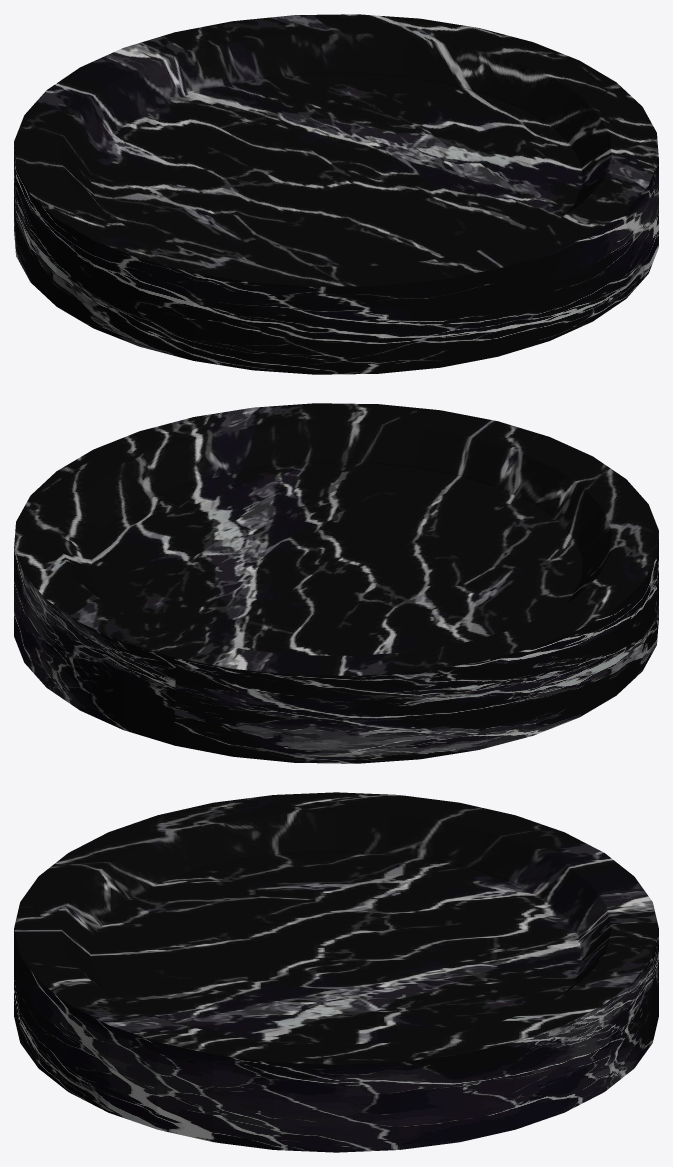
The model's file is pionek_black.gltf.
3 renders of one model, top to bottom at view 1: azimuth 30°, elevation 25°; view 2: azimuth 150°, elevation 25°; view 3: azimuth 270°, elevation 25°, orthographic.
Parts seen in each view (by area): view 1: Cylinder; view 2: Cylinder; view 3: Cylinder.
Part boxes in pixels (x1=…): Cylinder: x1=14, y1=14, x2=658, y2=374; Cylinder: x1=14, y1=403, x2=658, y2=763; Cylinder: x1=14, y1=792, x2=658, y2=1152.
Size of the model in its own units: 2 by 0.3 by 2.
